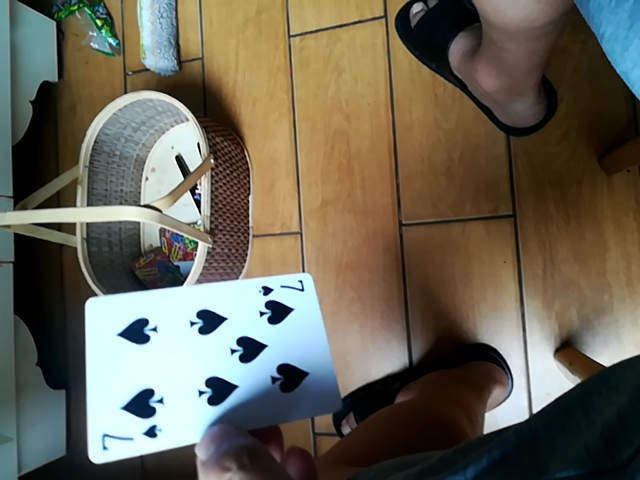ht 7: (83, 274, 338, 467)
